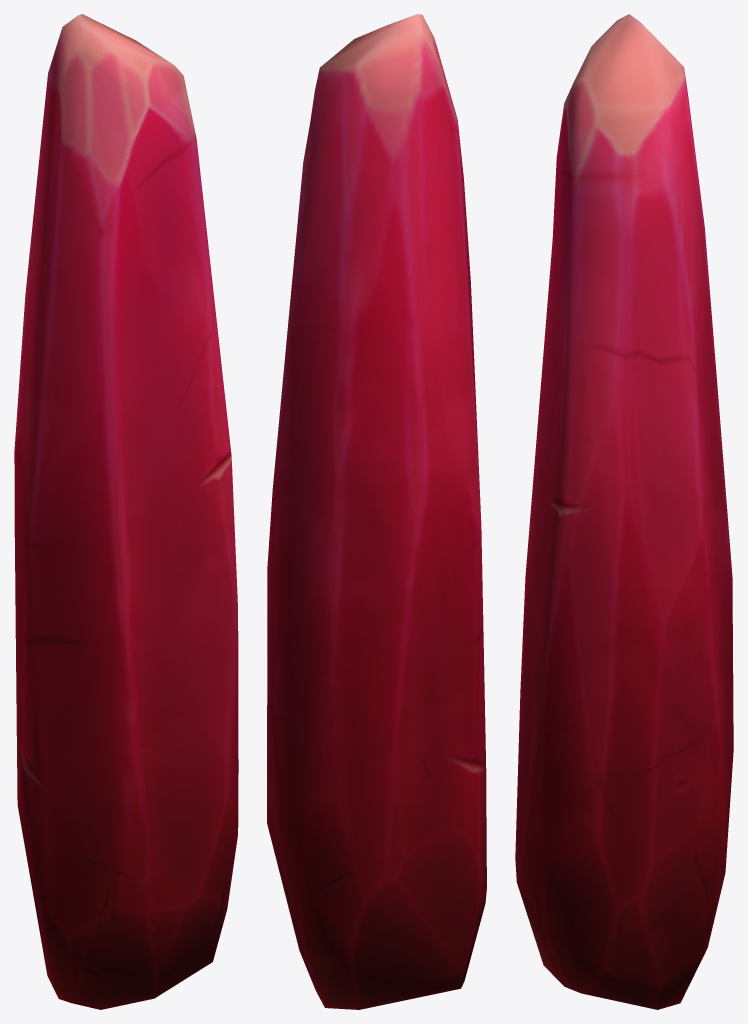
The model's file is SM_Gem_Ruby_002.fbx.
3 views of the same model, side by side, from view 1: azimuth 30°, elevation 25°; view 2: azimuth 150°, elevation 25°; view 3: azimuth 270°, elevation 25° (orthographic). The views are drawn at different scales.
Parts seen in each view (by area): view 1: SM_Gem_Ruby_002; view 2: SM_Gem_Ruby_002; view 3: SM_Gem_Ruby_002.
Boxes of the visible parts, box(x1,y1,x2,y2) form: SM_Gem_Ruby_002: box(14, 14, 238, 1009); SM_Gem_Ruby_002: box(267, 14, 486, 1009); SM_Gem_Ruby_002: box(515, 14, 733, 1009).
Size of the model in its own units: 19.1 by 89.15 by 18.37.
